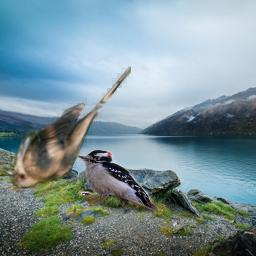Cuckoo: (3, 66, 131, 189)
Woodpecker: (77, 150, 157, 212)
